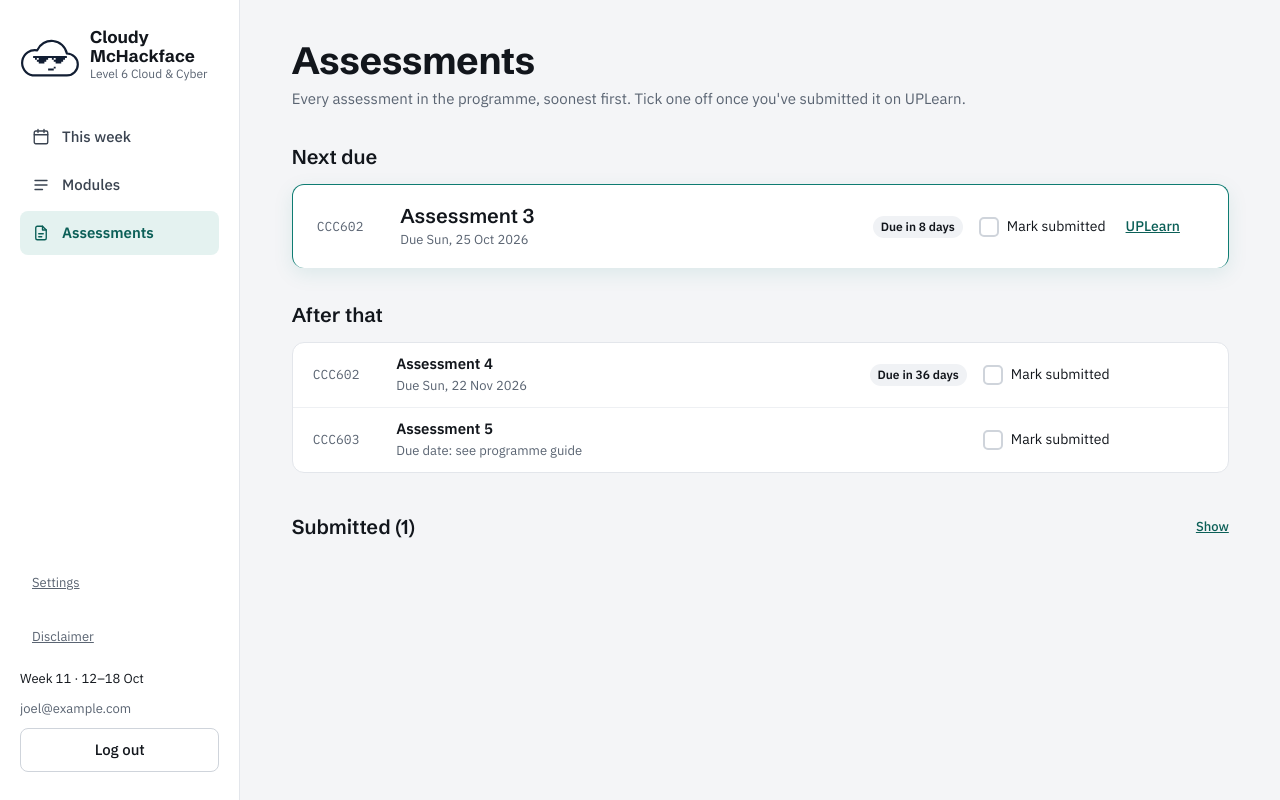
Test: AssessmentsPage › keeps submitted ones folded away until asked
The image size is (1280, 800).
Check: the text "Assessment 1" is not shown
Step 1. Click the button "Show" → [1212, 527], box 1196,505 -> 1229,549
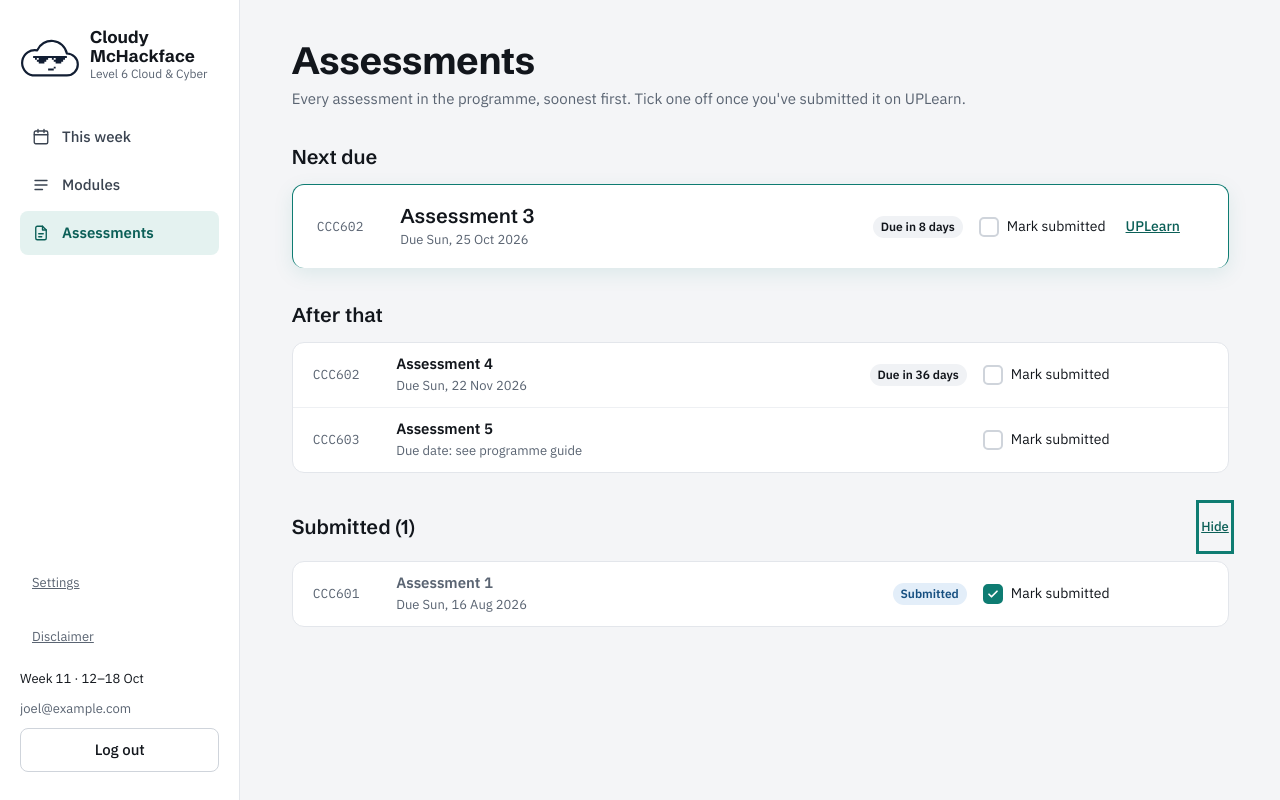
Check: the checkbox labelled "Mark submitted" in the row of "CCC601" is checked, box 983,584 -> 1003,604
